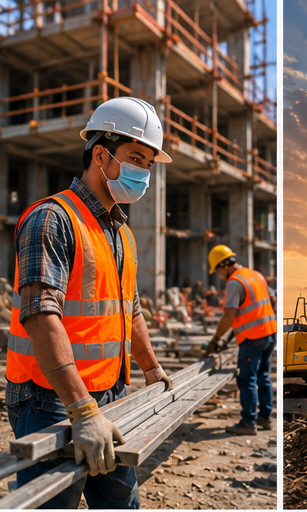hardhat: (76, 98, 166, 161), (199, 240, 233, 276)
person: (14, 82, 172, 495), (183, 221, 278, 429)
safety_vest: (45, 202, 141, 384), (232, 266, 274, 341)
